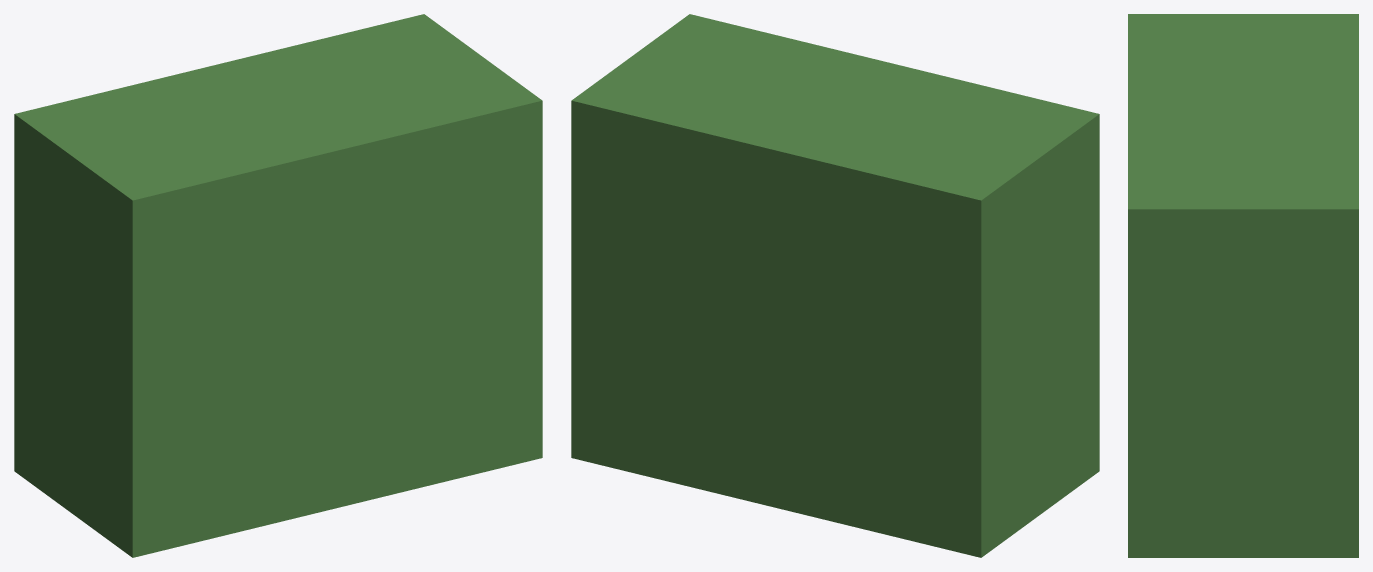
The model's file is planter-box-01.glb.
The picture shows the model from 3 angles, left to right: view 1: azimuth 30°, elevation 25°; view 2: azimuth 150°, elevation 25°; view 3: azimuth 270°, elevation 25°; orthographic projection. The views are drawn at different scales.
Bounding box in the file's own units: 0.6 × 0.5 × 0.3.
